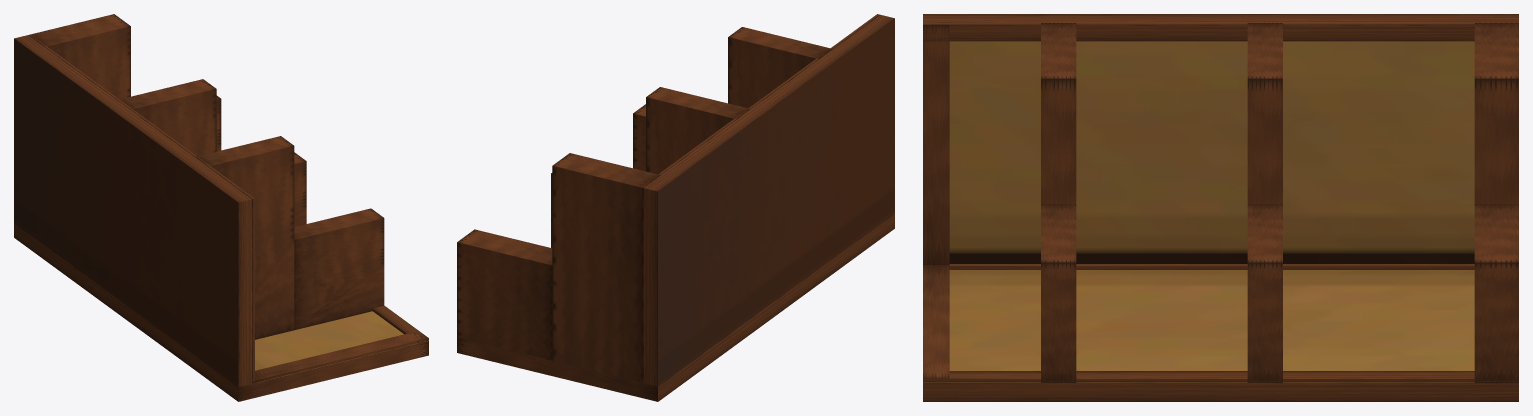
File: pz_g016_storage_big_wall_corner.obj
The picture shows the model from 3 angles, left to right: view 1: azimuth 30°, elevation 25°; view 2: azimuth 150°, elevation 25°; view 3: azimuth 270°, elevation 25°; orthographic projection. The views are drawn at different scales.
Visible parts, largest first — view 1: pz_g016_storage_big_wall_corner; view 2: pz_g016_storage_big_wall_corner; view 3: pz_g016_storage_big_wall_corner.
Boxes of the visible parts, <box> form: pz_g016_storage_big_wall_corner: <box>14,14,428,401</box>; pz_g016_storage_big_wall_corner: <box>457,14,894,401</box>; pz_g016_storage_big_wall_corner: <box>923,14,1518,401</box>.
Size of the model in its own units: 0.9531 by 0.9531 by 1.94.
1 material, 1 textured.
